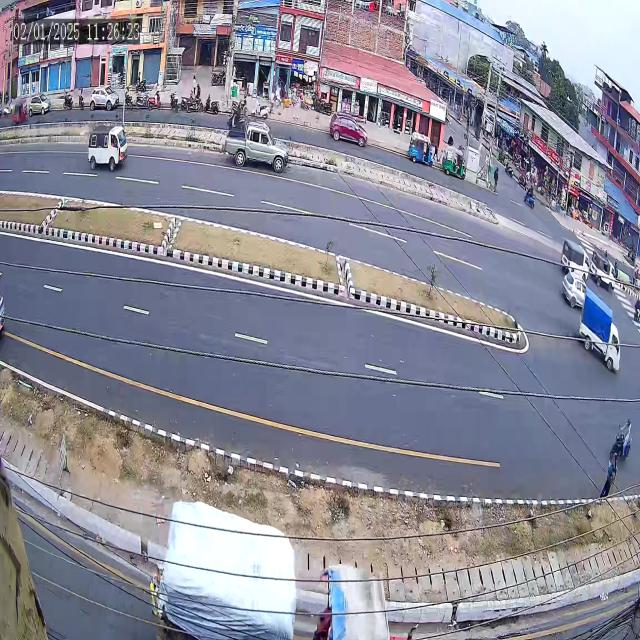van: (84, 122, 132, 182)
